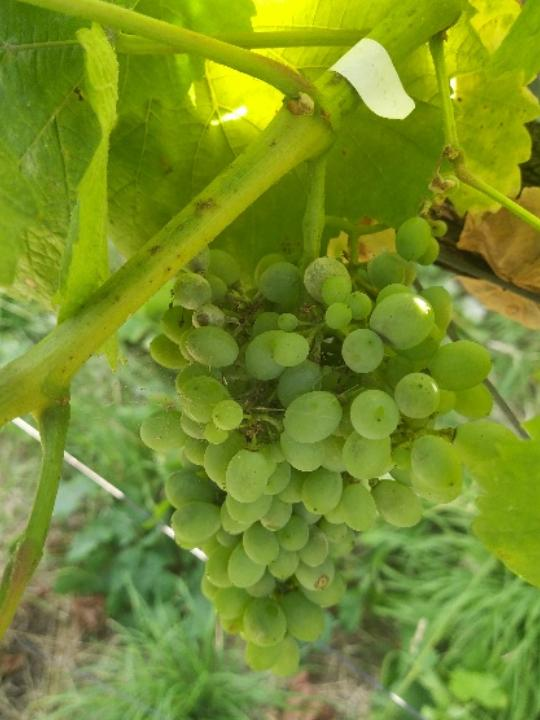grape: (131, 214, 519, 688)
